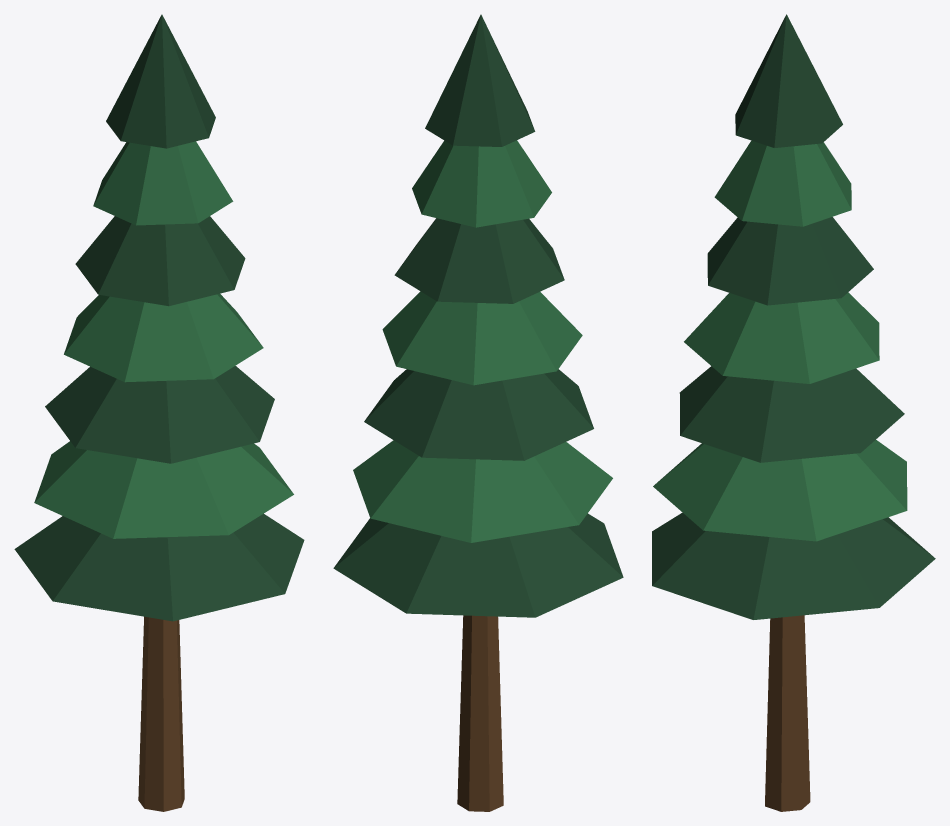
Rendered from arbre_foret_2.glb.
3 renders of one model, left to right at view 1: azimuth 30°, elevation 25°; view 2: azimuth 150°, elevation 25°; view 3: azimuth 270°, elevation 25°, orthographic.
Visible parts, largest first — view 1: epicea_etage_0.002, epicea_etage_1.002, epicea_etage_2.002, epicea_etage_3.002, epicea_etage_4.002, epicea_etage_5.002, epicea_etage_6.002, epicea_tronc.002; view 2: epicea_etage_0.002, epicea_etage_1.002, epicea_etage_2.002, epicea_etage_3.002, epicea_etage_4.002, epicea_etage_5.002, epicea_tronc.002, epicea_etage_6.002; view 3: epicea_etage_0.002, epicea_etage_1.002, epicea_etage_2.002, epicea_etage_3.002, epicea_etage_4.002, epicea_etage_5.002, epicea_etage_6.002, epicea_tronc.002.
Part boxes in pixels (left/top/right/bottom): epicea_etage_0.002: left=14, top=513, right=304, bottom=621; epicea_etage_1.002: left=34, top=441, right=293, bottom=538; epicea_etage_2.002: left=45, top=366, right=274, bottom=463; epicea_etage_3.002: left=64, top=293, right=263, bottom=382; epicea_etage_4.002: left=75, top=216, right=245, bottom=306; epicea_etage_5.002: left=93, top=141, right=233, bottom=225; epicea_etage_6.002: left=106, top=14, right=215, bottom=148; epicea_tronc.002: left=138, top=616, right=184, bottom=811; epicea_etage_0.002: left=333, top=513, right=623, bottom=617; epicea_etage_1.002: left=353, top=440, right=612, bottom=542; epicea_etage_2.002: left=364, top=369, right=593, bottom=460; epicea_etage_3.002: left=382, top=291, right=582, bottom=385; epicea_etage_4.002: left=394, top=218, right=564, bottom=303; epicea_etage_5.002: left=412, top=140, right=551, bottom=227; epicea_tronc.002: left=457, top=615, right=503, bottom=811; epicea_etage_6.002: left=425, top=14, right=535, bottom=146; epicea_etage_0.002: left=652, top=512, right=935, bottom=619; epicea_etage_1.002: left=653, top=440, right=907, bottom=541; epicea_etage_2.002: left=679, top=366, right=904, bottom=462; epicea_etage_3.002: left=684, top=292, right=879, bottom=383; epicea_etage_4.002: left=707, top=217, right=873, bottom=305; epicea_etage_5.002: left=714, top=140, right=851, bottom=226; epicea_etage_6.002: left=735, top=14, right=842, bottom=147; epicea_tronc.002: left=765, top=615, right=810, bottom=811.
Bounding box in the file's own units: 1.95 × 5.83 × 1.9.
